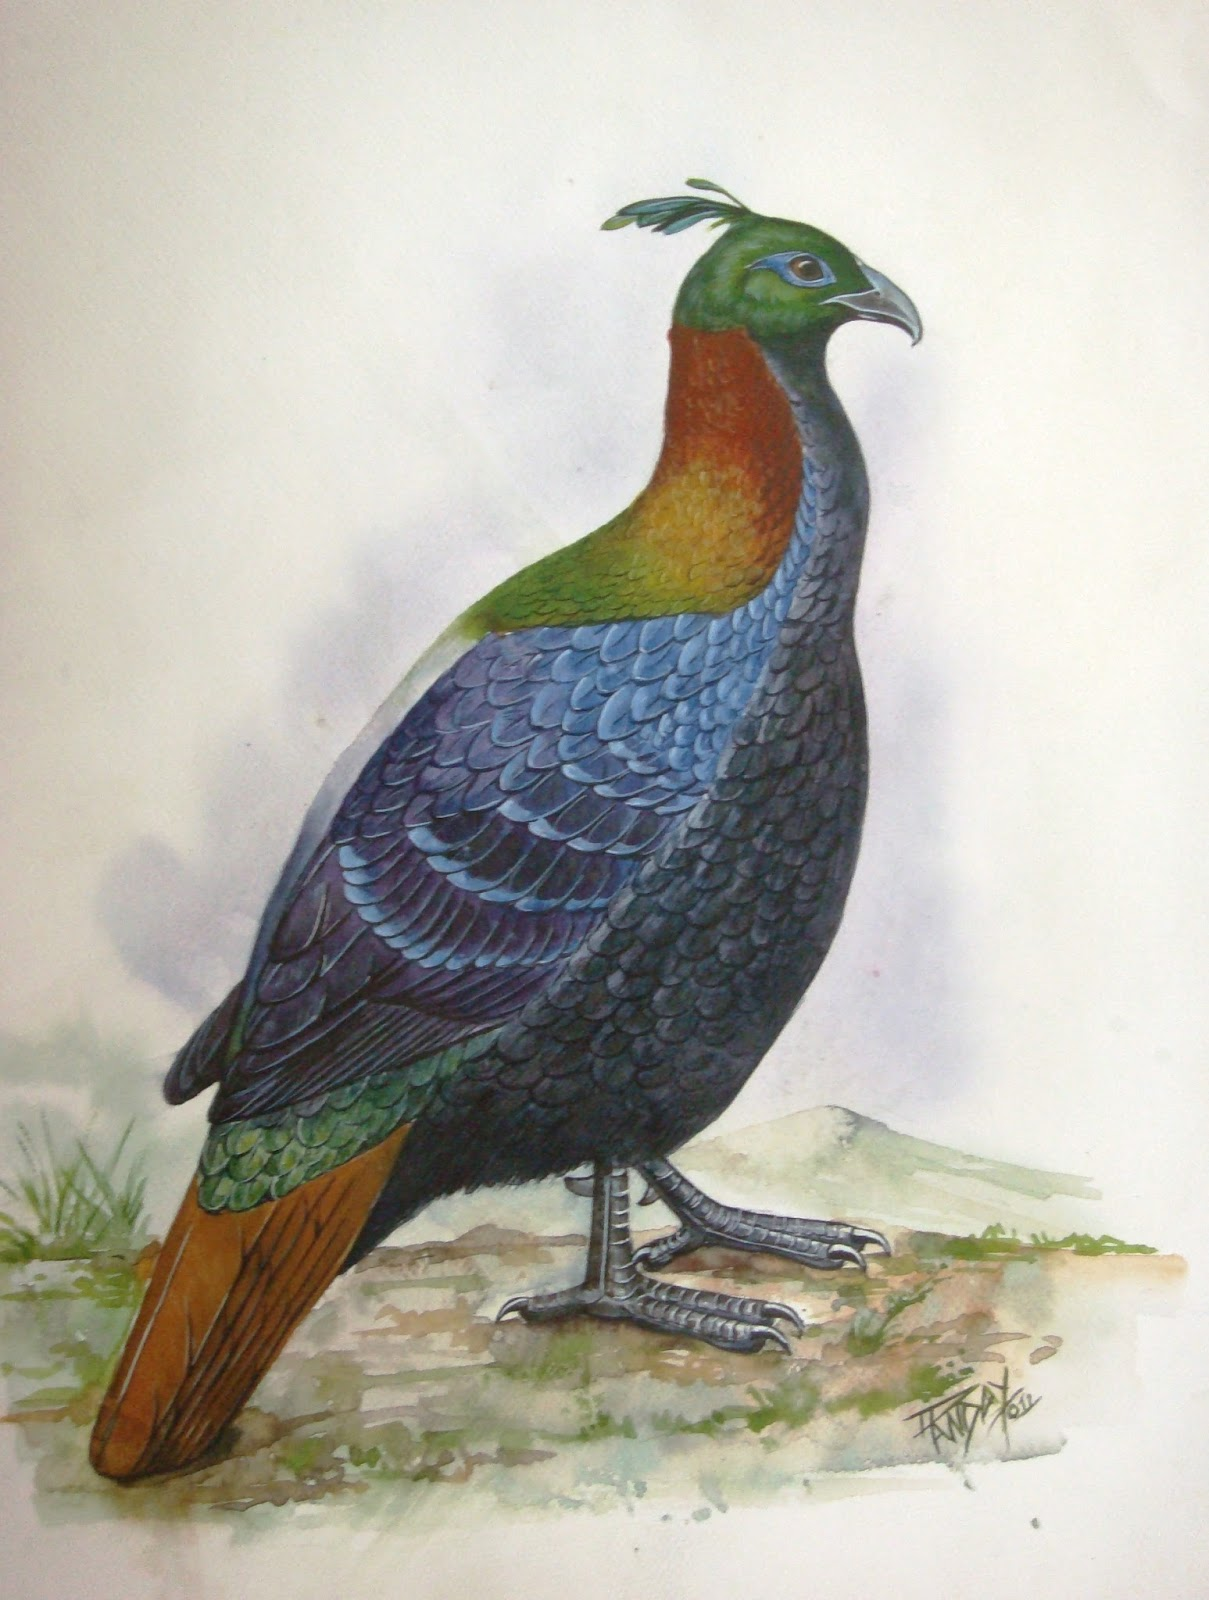bird: (55, 128, 989, 1535)
